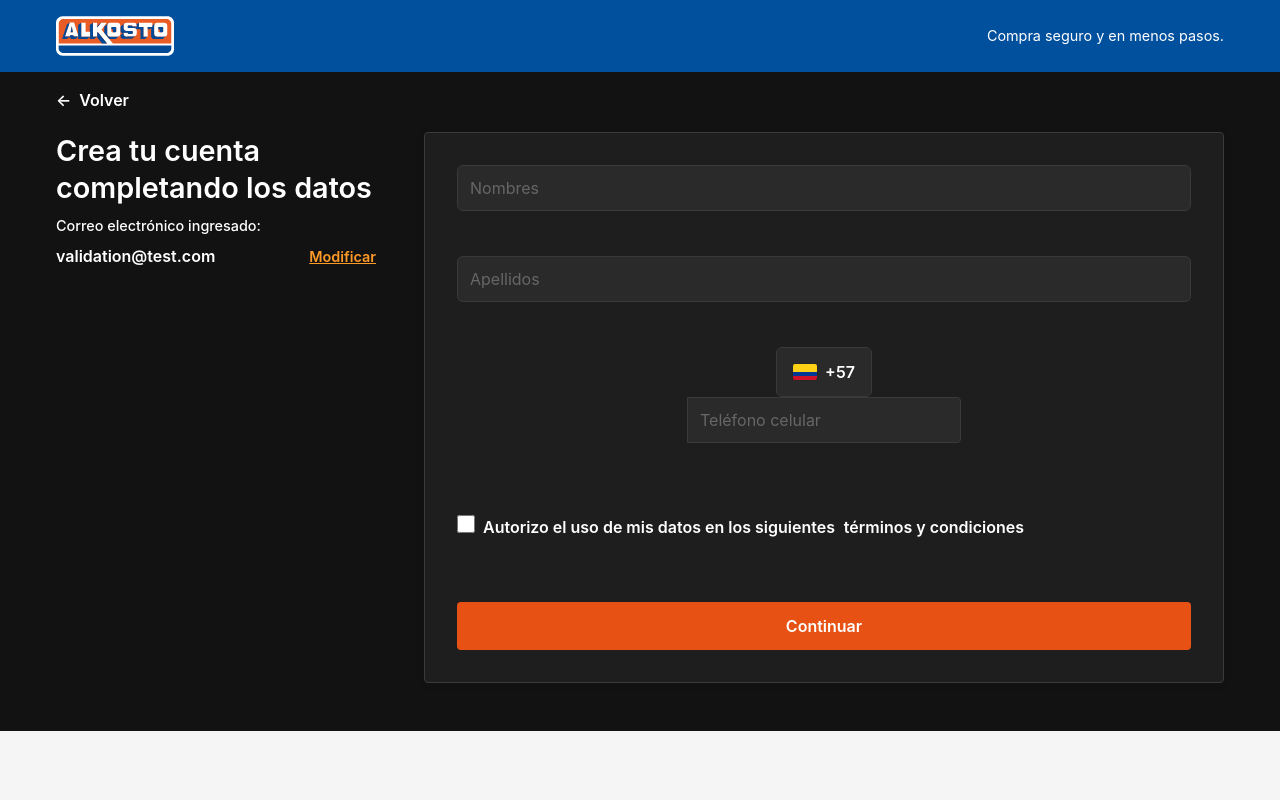
Test case: RF01 - REGISTRAR USUARIO - Pruebas E2E Completas › 2. Validaciones de Campos Requeridos › 2.1 Muestra error cuando el nombre está vacío
This screenshot has width=1280, height=800.
// Dejar nombres vacío y llenar otros campos
Type "Apellido" into the field named "lastName" at {"x": 824, "y": 279}, box [457, 256, 1191, 302]
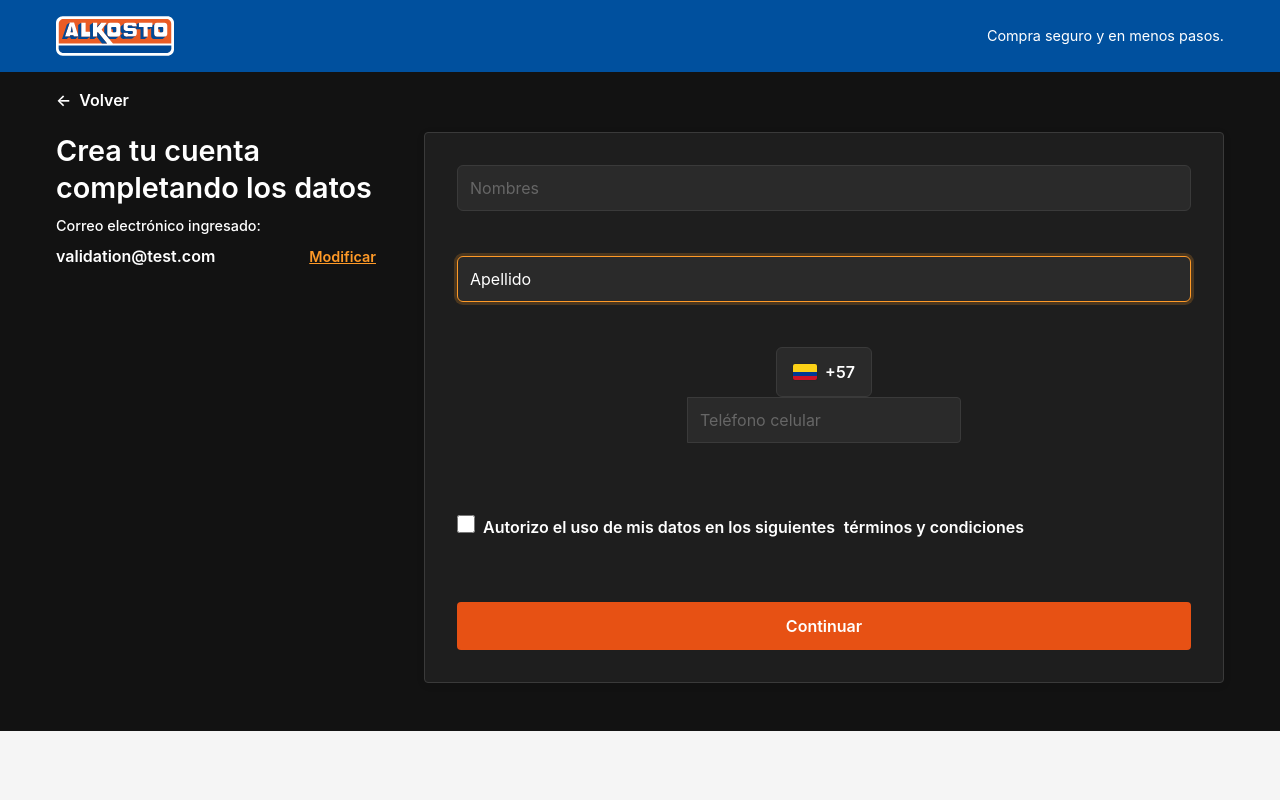
Type "3001234567" into the field named "phone" at {"x": 824, "y": 420}, box [687, 397, 961, 443]
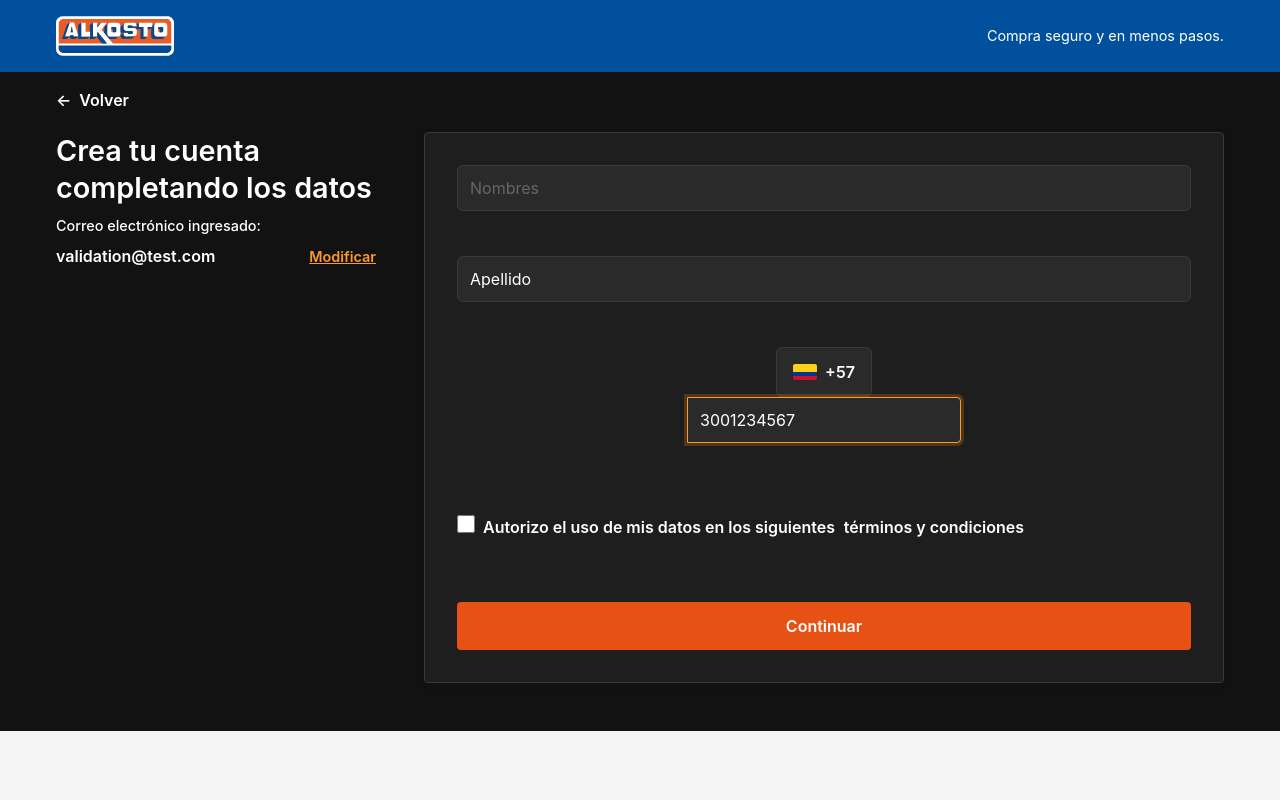
Check the checkbox named "agreeTerms" at {"x": 466, "y": 524}, box [457, 515, 475, 533]
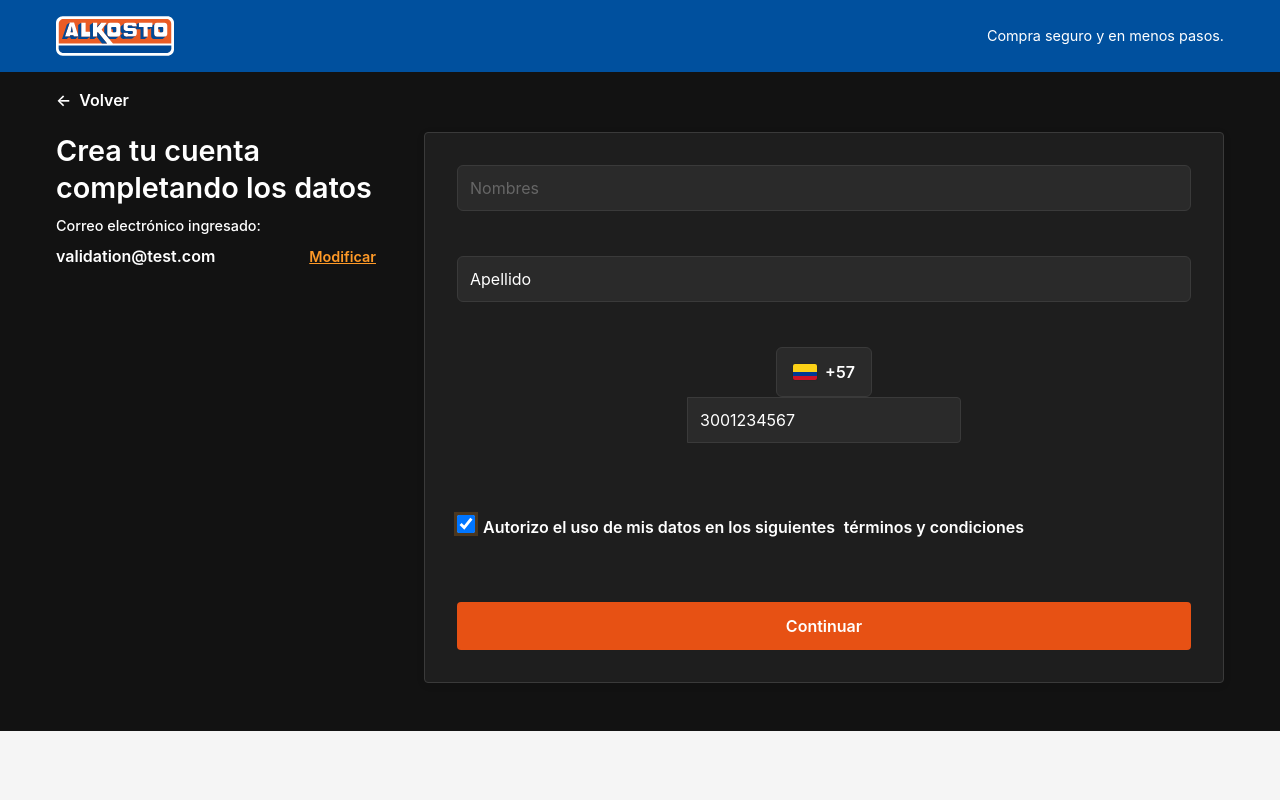
Click the button with class "continue-button" at {"x": 824, "y": 626}, box [457, 602, 1191, 650]
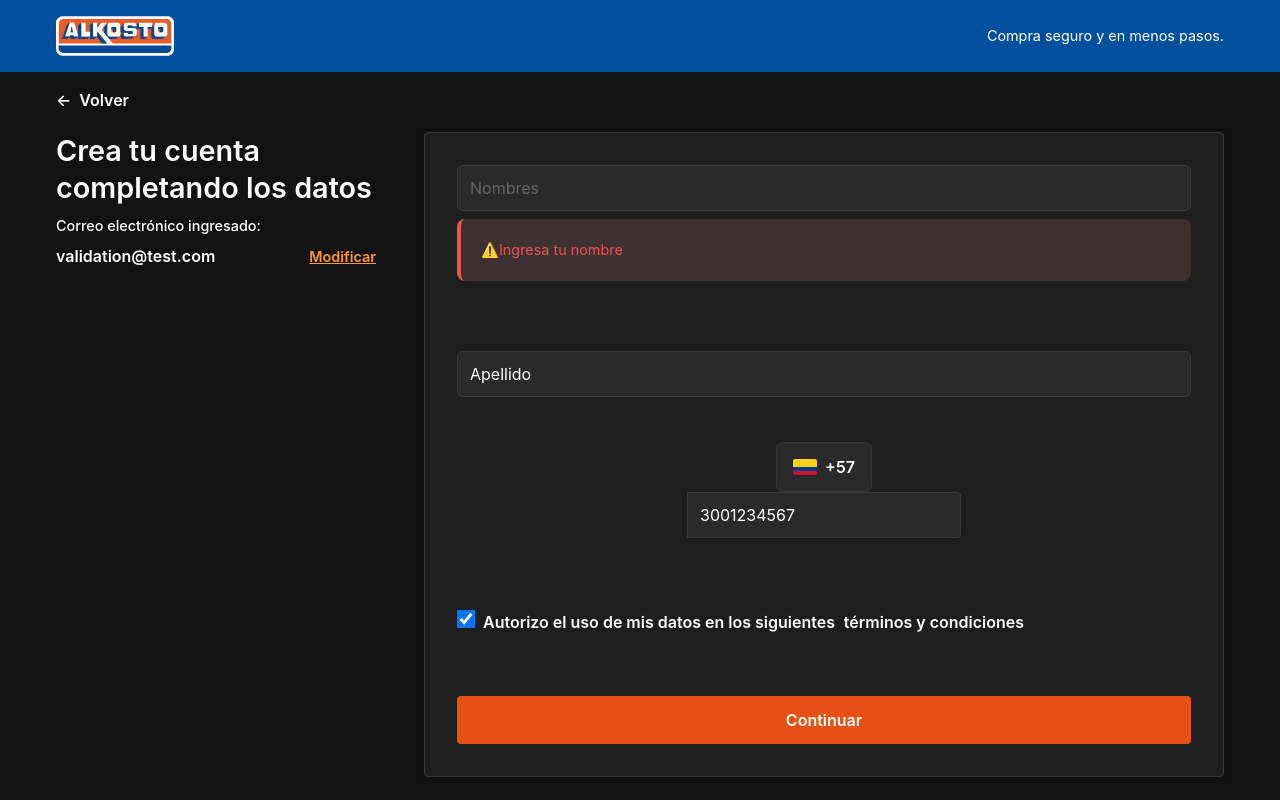
expect the text "Ingresa tu nombre" is shown: met, box [457, 219, 1191, 281]
